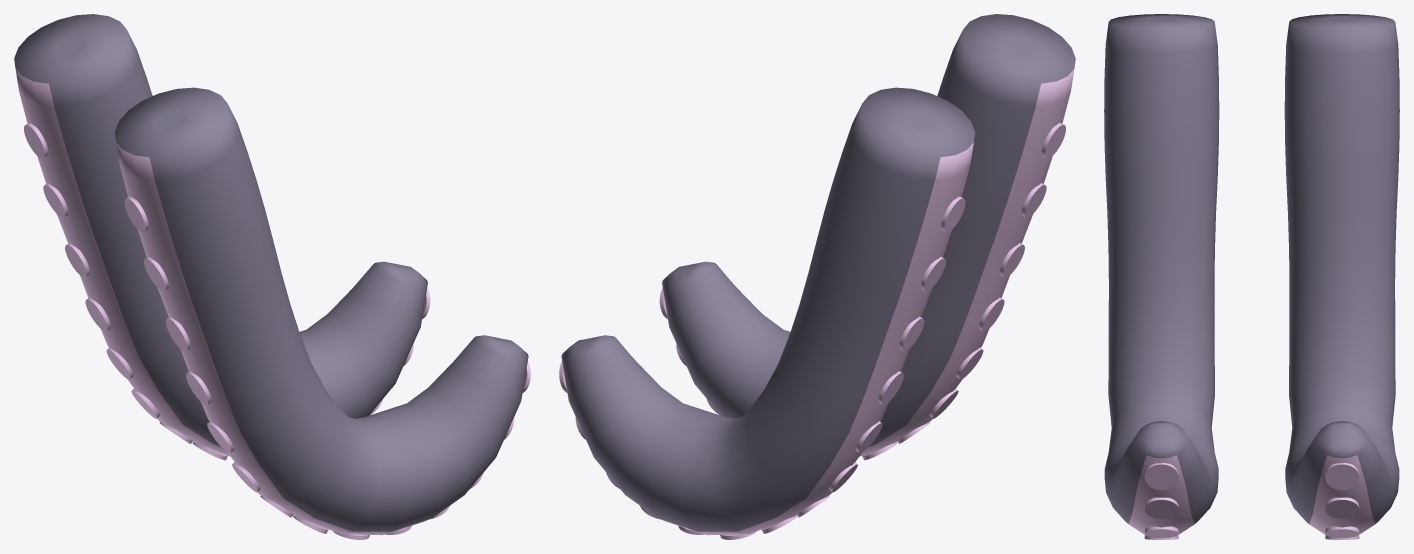
File: SquidHand.fbx
The picture shows the model from 3 angles, left to right: view 1: azimuth 30°, elevation 25°; view 2: azimuth 150°, elevation 25°; view 3: azimuth 270°, elevation 25°; orthographic projection. The views are drawn at different scales.
Parts seen in each view (by area): view 1: pCylinder1, pCylinder2; view 2: pCylinder2, pCylinder1; view 3: pCylinder1, pCylinder2, pDisc1, pDisc19, pDisc2, pDisc22, pDisc3, pDisc28.
Boxes of the visible parts, box(x1,y1,x2,y2) form: pCylinder1: box(114, 87, 528, 535); pCylinder2: box(14, 14, 427, 456); pCylinder2: box(561, 87, 975, 535); pCylinder1: box(662, 14, 1075, 456); pCylinder1: box(1104, 14, 1219, 534); pCylinder2: box(1284, 14, 1399, 534); pDisc1: box(1144, 463, 1178, 490); pDisc19: box(1325, 463, 1359, 490); pDisc2: box(1144, 497, 1178, 518); pDisc22: box(1325, 497, 1359, 518); pDisc3: box(1144, 526, 1178, 538); pDisc28: box(1325, 526, 1359, 538).
Bounding box in the file's own units: 7.86 × 8.86 × 5.57.
